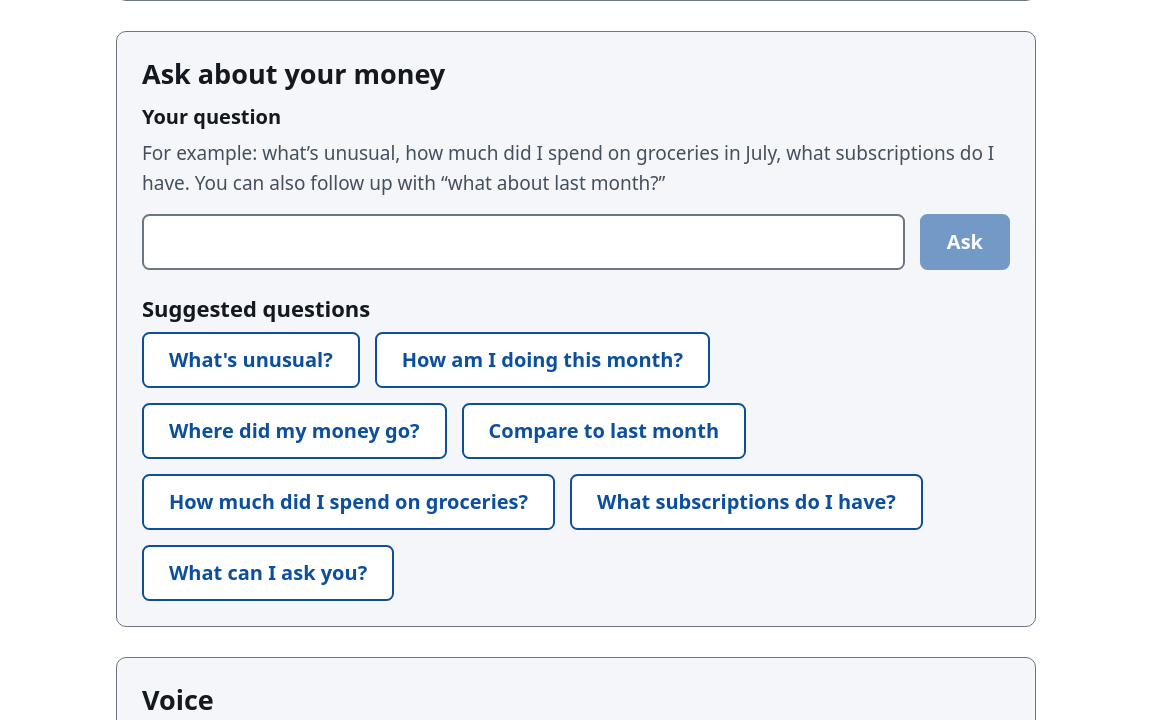
App › shows the narration verbatim, announces it, and moves focus to the answer
(page scrolled)
Click the button "What's unusual?".
click(251, 360)  # box [142,332,360,388]
(page scrolled)
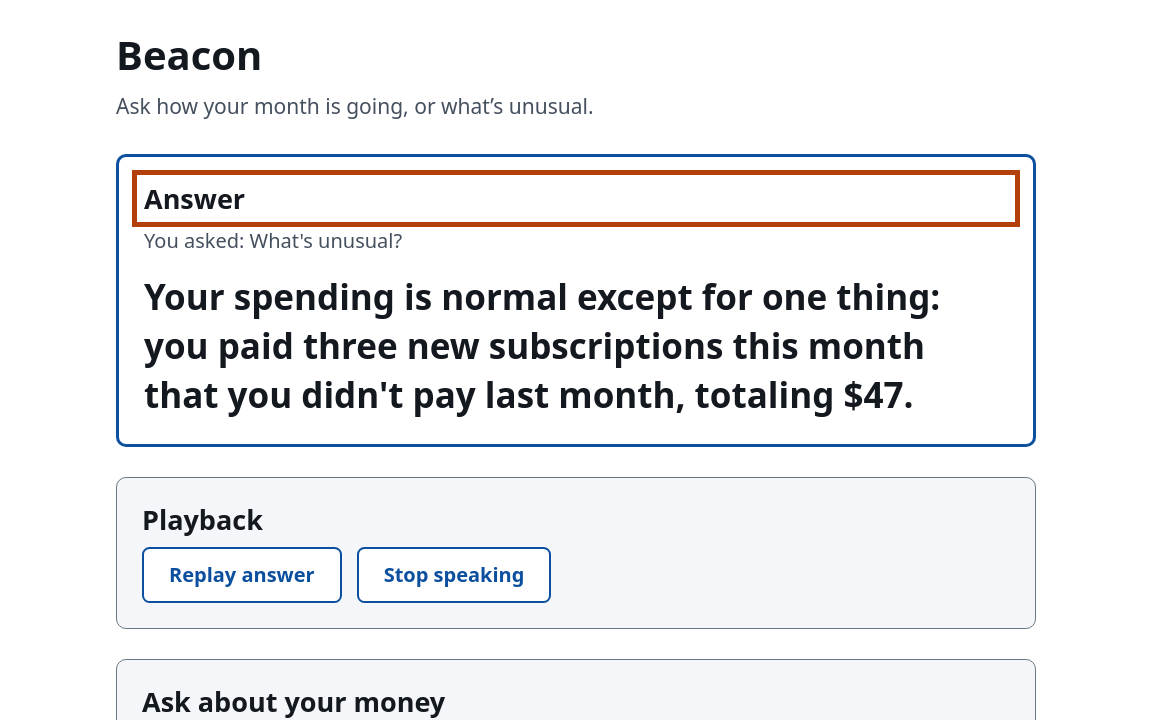
Expected: the text "Your spending is normal except for one thing: you paid three new subscriptions this month that you didn't pay last month" is shown, [144,273,940,418]
